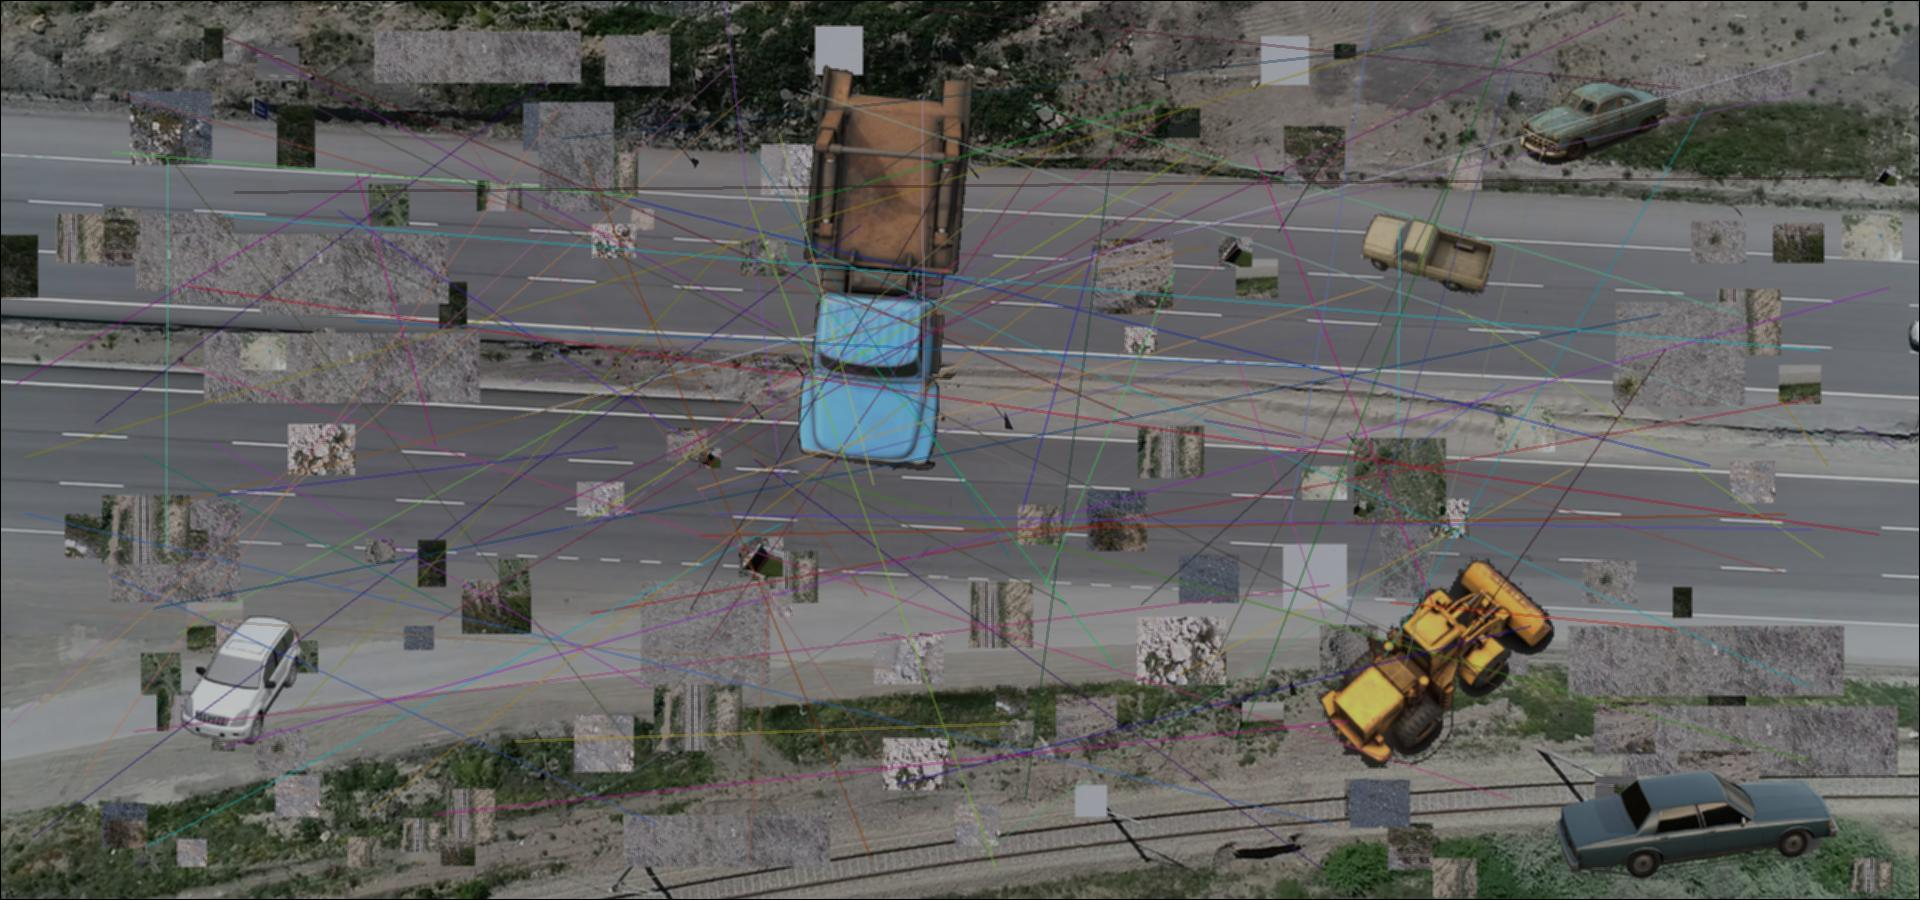arac: (782, 60, 983, 476), (1318, 551, 1576, 774), (1550, 768, 1847, 880), (173, 612, 310, 756), (1521, 75, 1669, 165), (1360, 211, 1495, 298)
